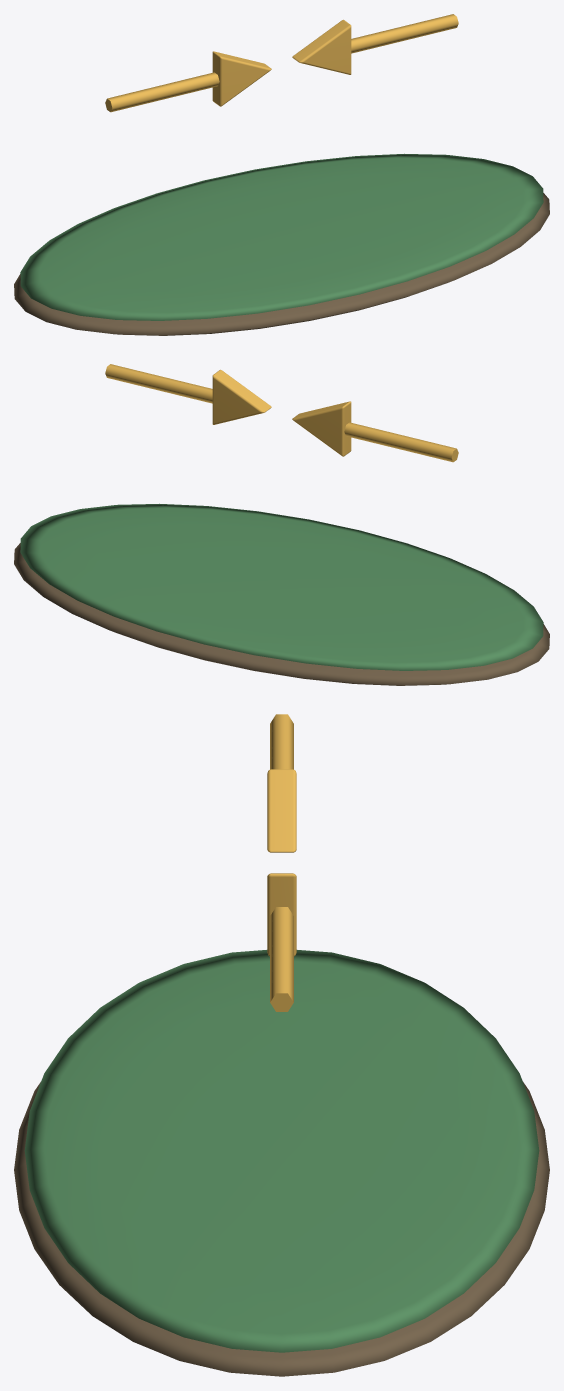
File: opposite-directions.glb
3 renders of one model, top to bottom at view 1: azimuth 30°, elevation 25°; view 2: azimuth 150°, elevation 25°; view 3: azimuth 270°, elevation 25°, orthographic. The views are drawn at different scales.
Visible parts, largest first — view 1: opposite-directions_surface_01, opposite-directions_surface_00, opposite-directions_surface_02; view 2: opposite-directions_surface_01, opposite-directions_surface_00, opposite-directions_surface_02; view 3: opposite-directions_surface_01, opposite-directions_surface_00, opposite-directions_surface_02.
Boxes of the visible parts, left/top/right/bottom form: opposite-directions_surface_01: left=20, top=153, right=543, bottom=320; opposite-directions_surface_00: left=14, top=193, right=549, bottom=335; opposite-directions_surface_02: left=105, top=14, right=458, bottom=112; opposite-directions_surface_01: left=20, top=503, right=543, bottom=670; opposite-directions_surface_00: left=14, top=543, right=549, bottom=685; opposite-directions_surface_02: left=105, top=364, right=458, bottom=462; opposite-directions_surface_01: left=24, top=950, right=539, bottom=1352; opposite-directions_surface_00: left=14, top=1082, right=549, bottom=1376; opposite-directions_surface_02: left=267, top=714, right=296, bottom=1011.
Bounding box in the file's own units: 4.56 × 1.92 × 2.5.
